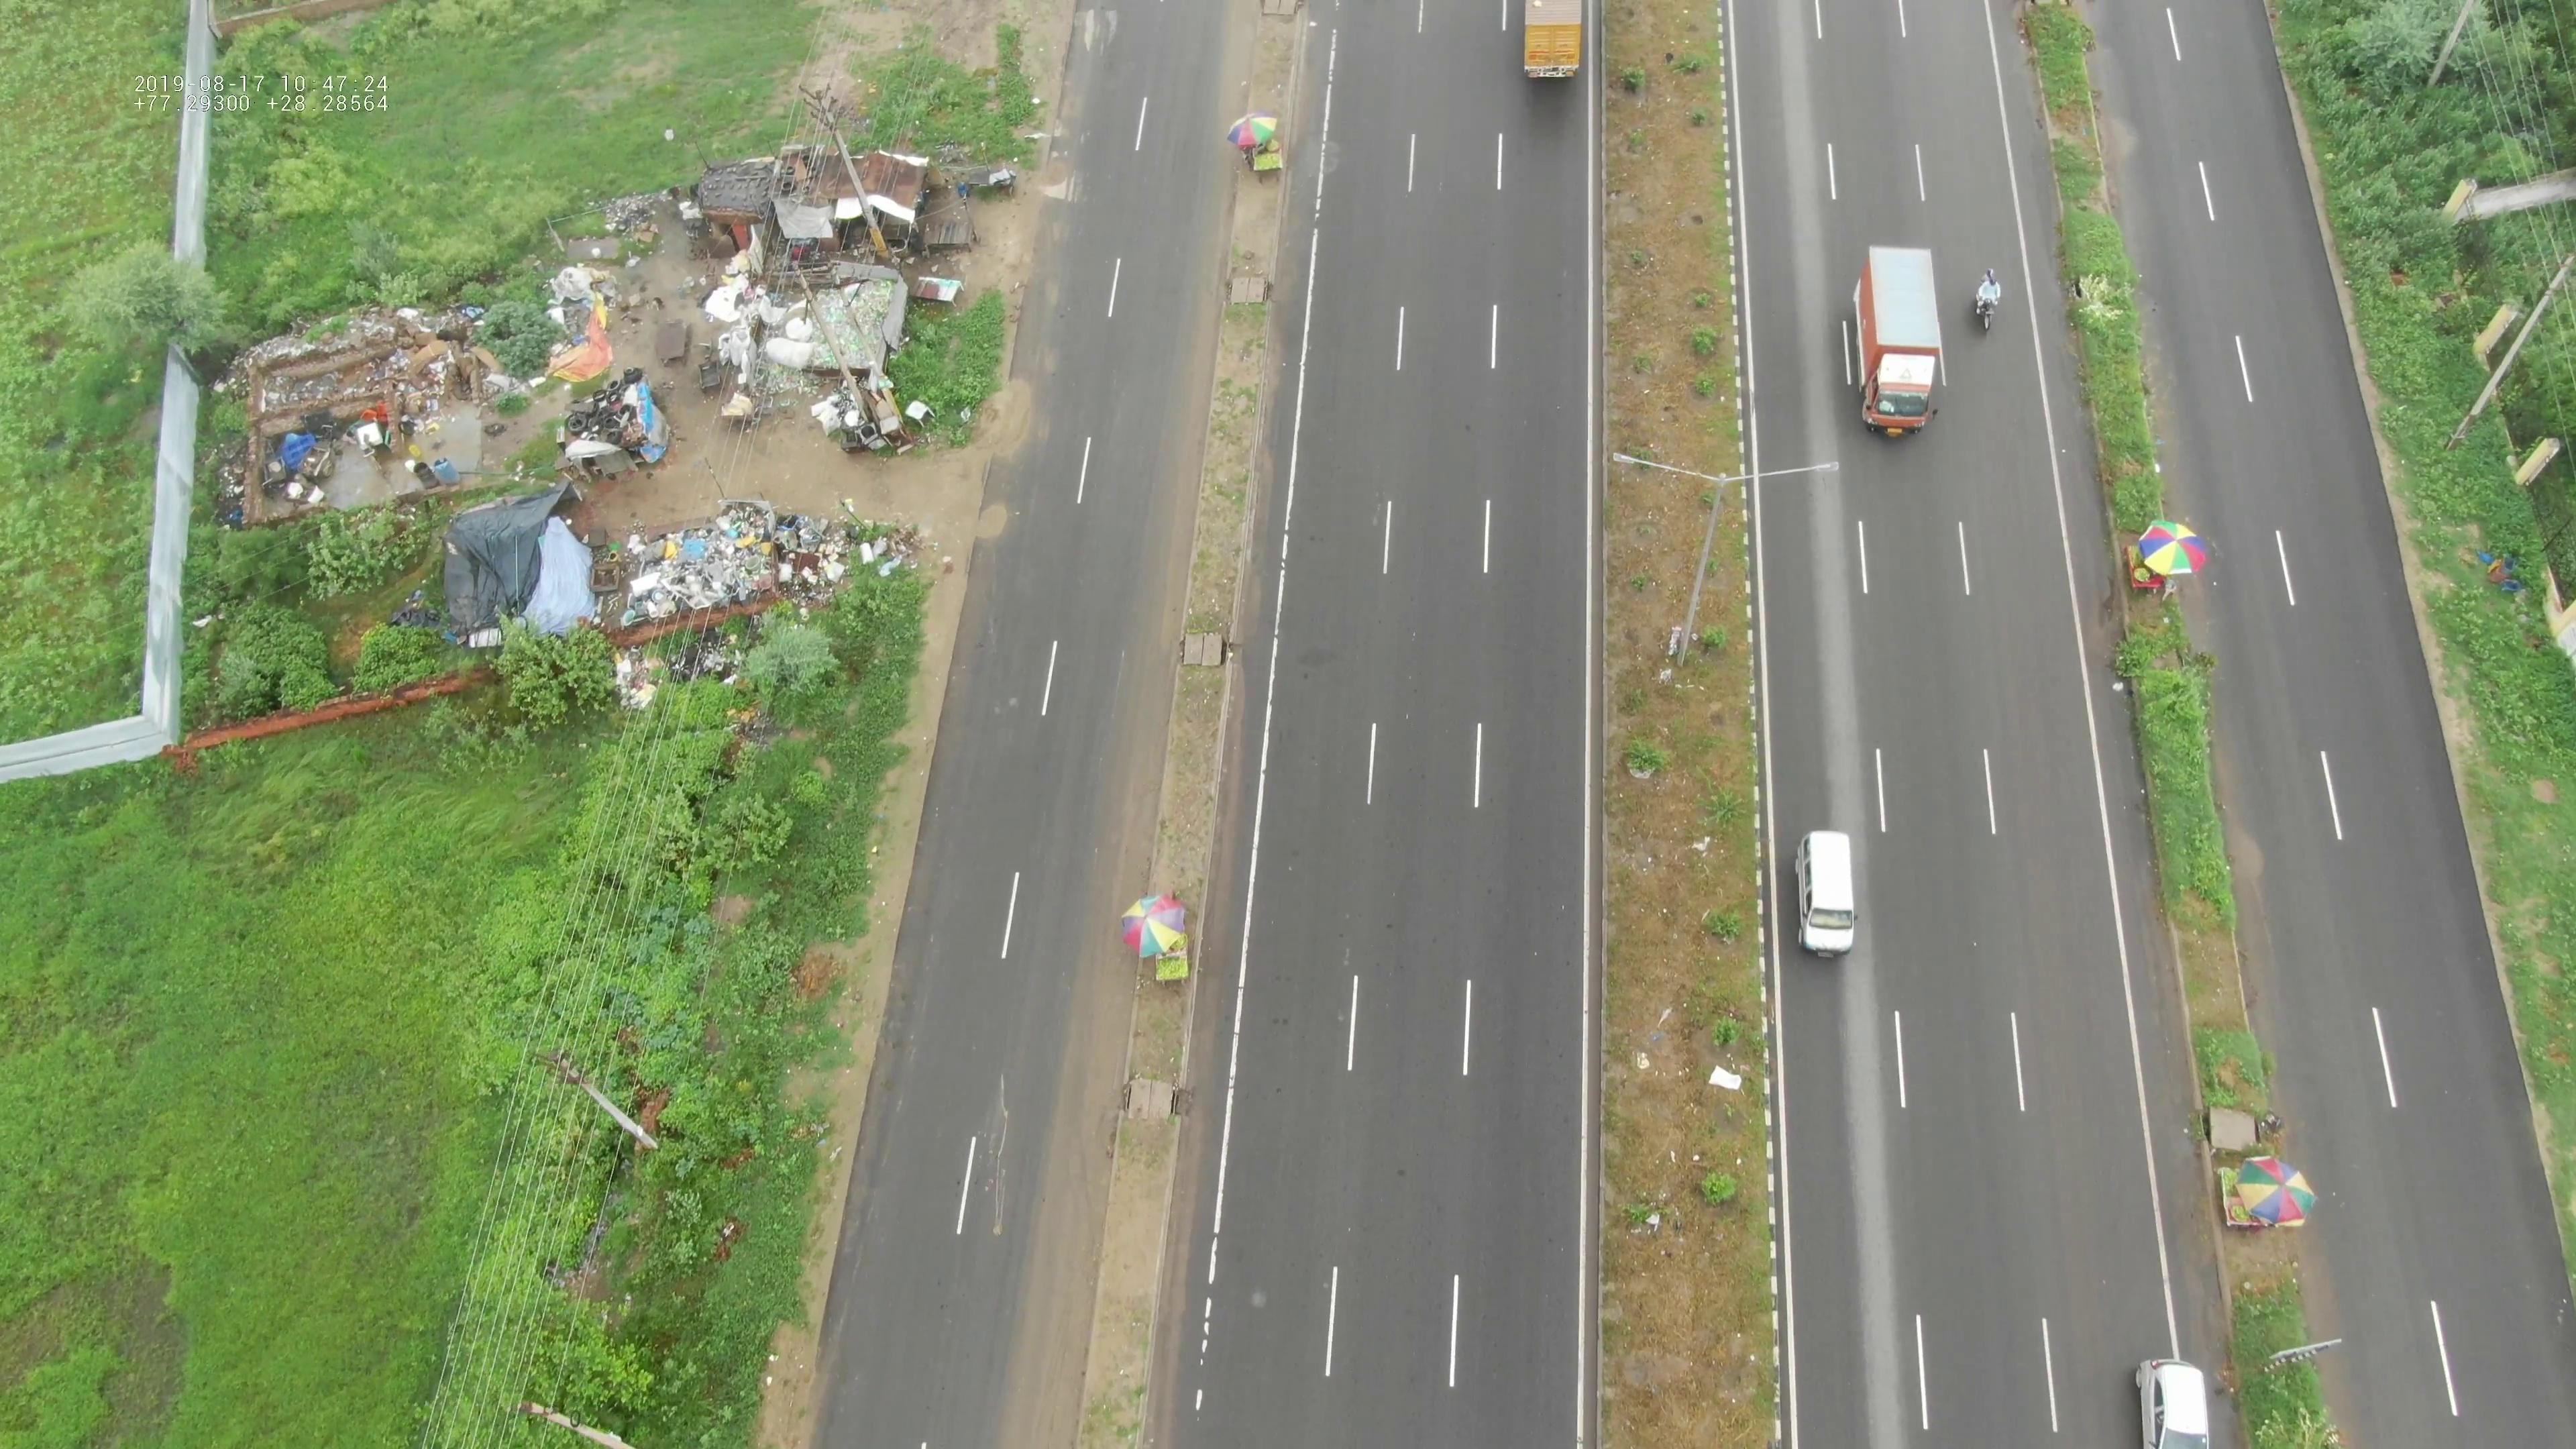Potholes: (2093, 575, 2121, 632)
